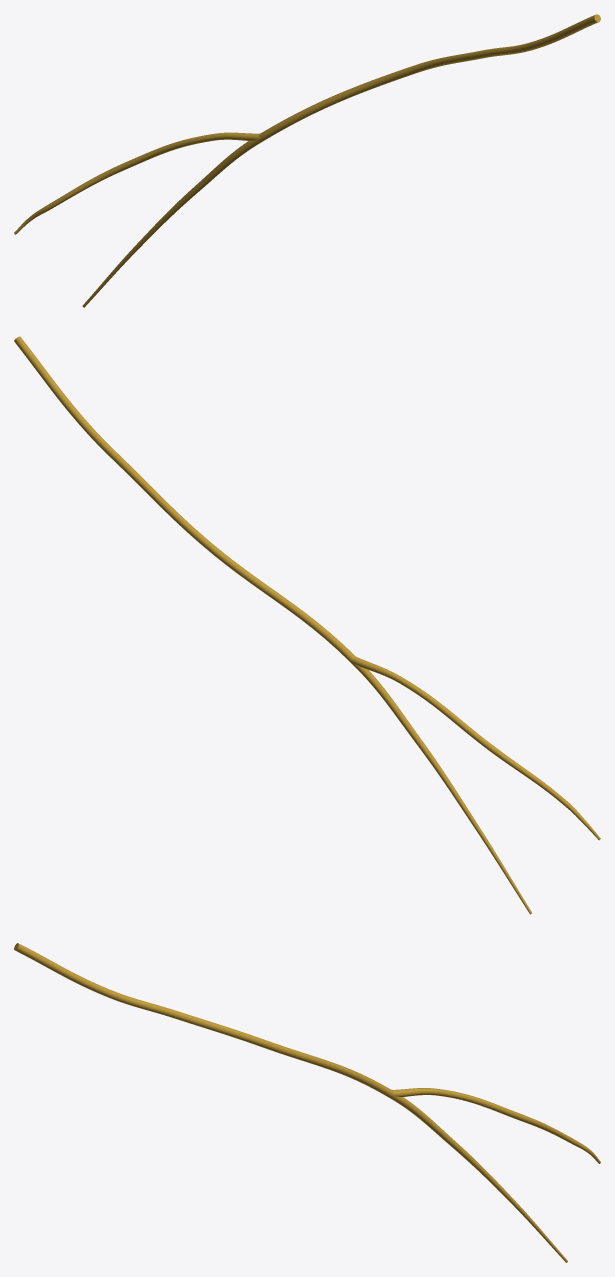
3 views of the same model, one above another, from view 1: azimuth 30°, elevation 25°; view 2: azimuth 210°, elevation 25°; view 3: azimuth 270°, elevation 25° (orthographic).
Visible parts, largest first — view 1: 左侧下颌舌骨肌神经; view 2: 左侧下颌舌骨肌神经; view 3: 左侧下颌舌骨肌神经.
Part boxes in pixels (x1,y1,x2,y2): 左侧下颌舌骨肌神经: (14, 14, 600, 307); 左侧下颌舌骨肌神经: (14, 336, 600, 914); 左侧下颌舌骨肌神经: (14, 943, 600, 1262).
Bounding box in the file's own units: 0.037 × 0.0521 × 0.0637.
